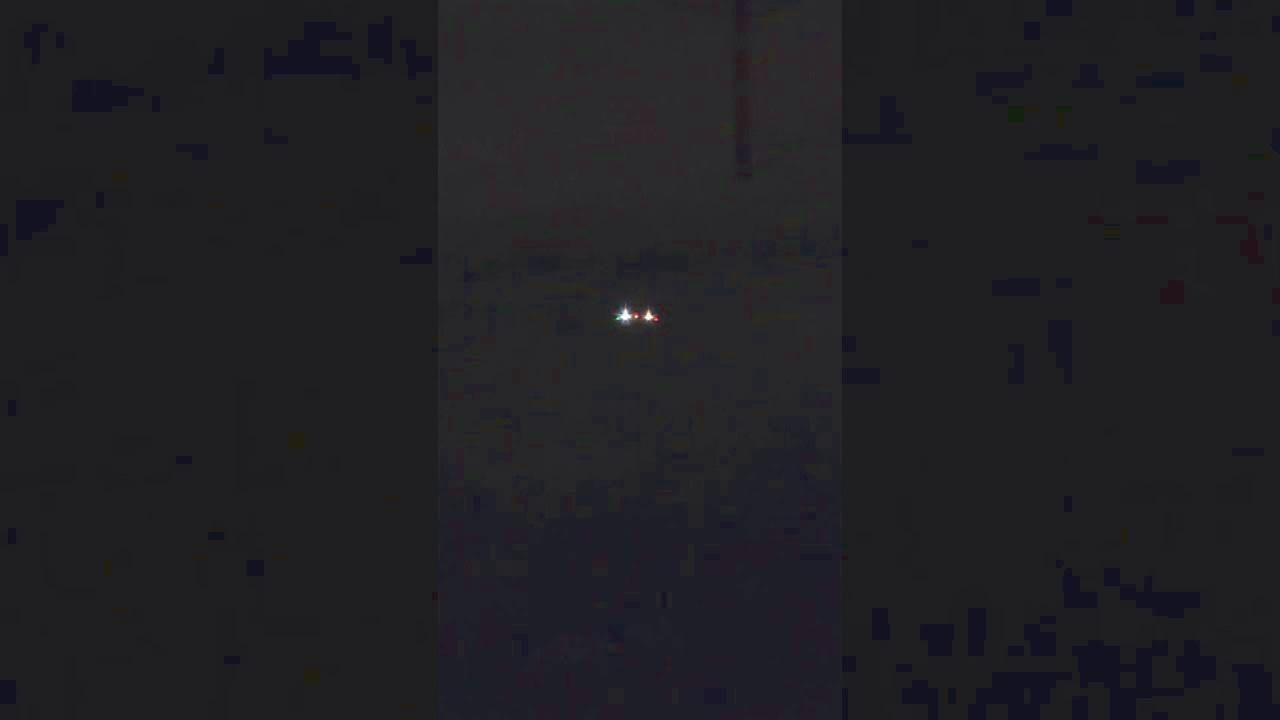Plane: (578, 284, 696, 347)
